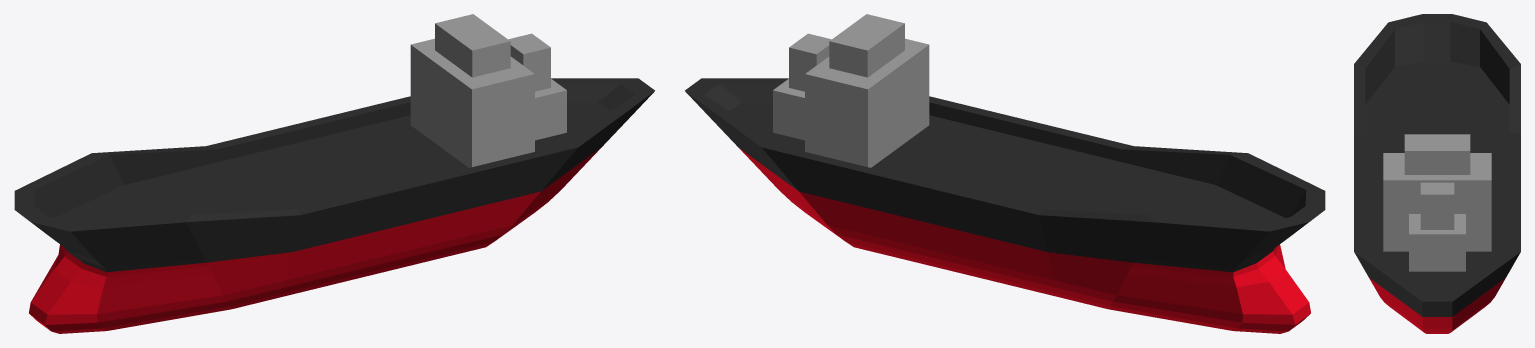
The model's file is Ship.fbx.
The picture shows the model from 3 angles, left to right: view 1: azimuth 30°, elevation 25°; view 2: azimuth 150°, elevation 25°; view 3: azimuth 270°, elevation 25°; orthographic projection. The views are drawn at different scales.
Visible parts, largest first — view 1: Ship; view 2: Ship; view 3: Ship.
Boxes of the visible parts, left/top/right/bottom form: Ship: left=14, top=14, right=654, bottom=333; Ship: left=685, top=14, right=1325, bottom=333; Ship: left=1354, top=14, right=1520, bottom=333.
Size of the model in its own units: 764 by 234 by 200.
